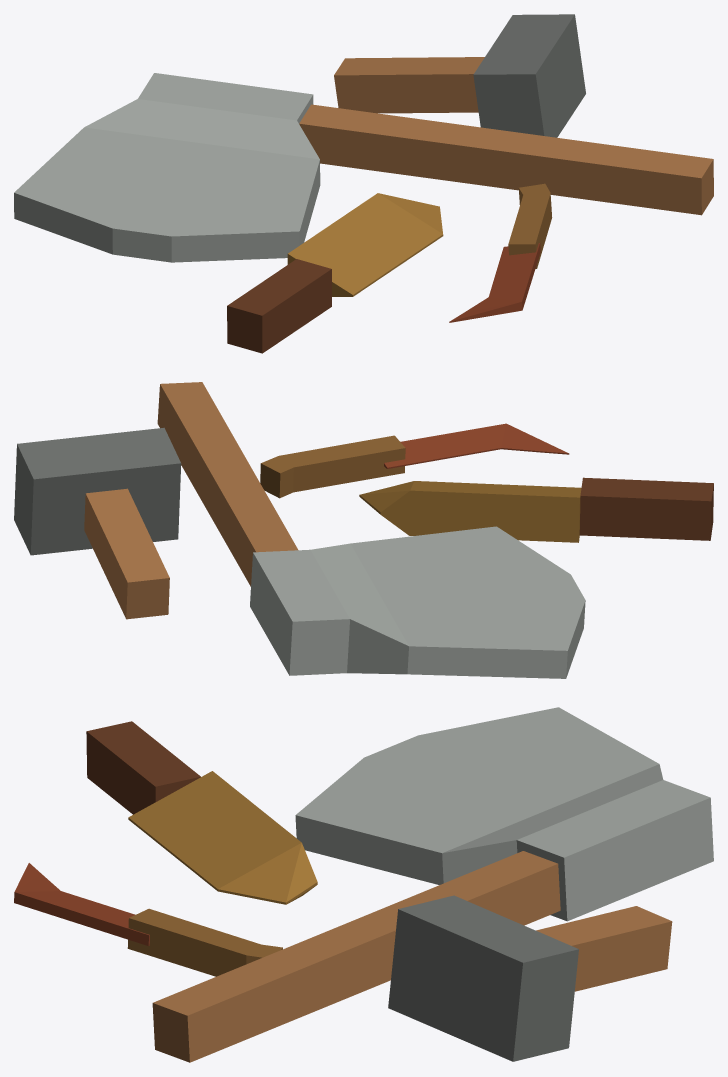
The model's file is tools.glb.
3 views of the same model, one above another, from view 1: azimuth 30°, elevation 25°; view 2: azimuth 150°, elevation 25°; view 3: azimuth 270°, elevation 25° (orthographic). The views are drawn at different scales.
Visible parts, largest first — view 1: Cube.037; view 2: Cube.037; view 3: Cube.037.
Boxes of the visible parts, bbox=[...] form: Cube.037: bbox=[14, 14, 713, 353]; Cube.037: bbox=[14, 382, 713, 678]; Cube.037: bbox=[14, 707, 713, 1062].
Bounding box in the file's own units: 0.8523 × 0.1293 × 0.7698.
